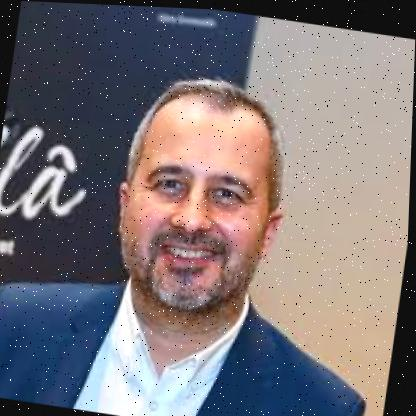person: (95, 63, 305, 335)
